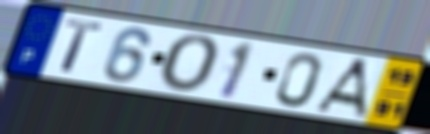0: (274, 51, 327, 108)
1: (219, 41, 257, 102)
6: (101, 25, 153, 84)
A: (312, 57, 372, 121)
O: (157, 33, 224, 96)
T: (58, 17, 106, 75)
